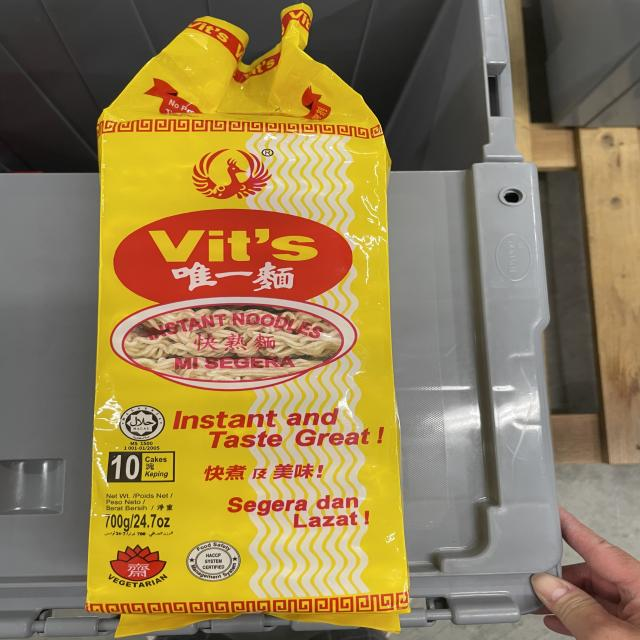object_name: (104, 43, 402, 633)
